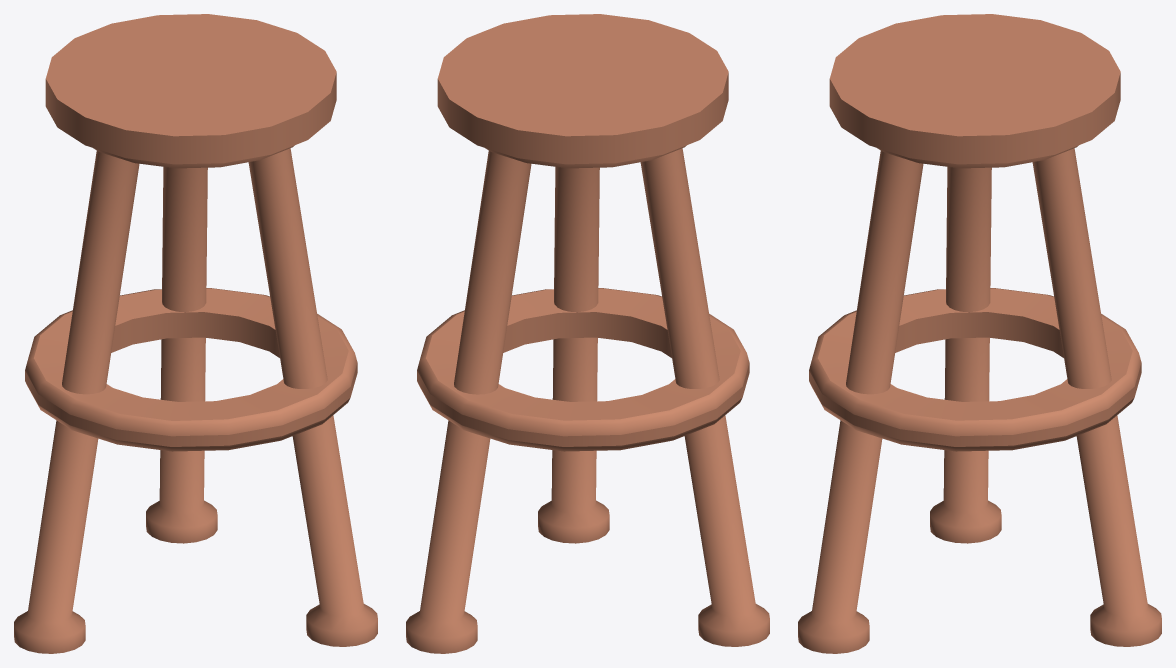
File: Stool.fbx
3 views of the same model, side by side, from view 1: azimuth 30°, elevation 25°; view 2: azimuth 150°, elevation 25°; view 3: azimuth 270°, elevation 25° (orthographic).
Visible parts, largest first — view 1: Stool 1; view 2: Stool 1; view 3: Stool 1.
Boxes of the visible parts, x1,y1,x2,y2 form: Stool 1: (14,14,377,653); Stool 1: (406,14,769,653); Stool 1: (798,14,1161,653).
Bounding box in the file's own units: 56.51 × 57.47 × 89.87.
